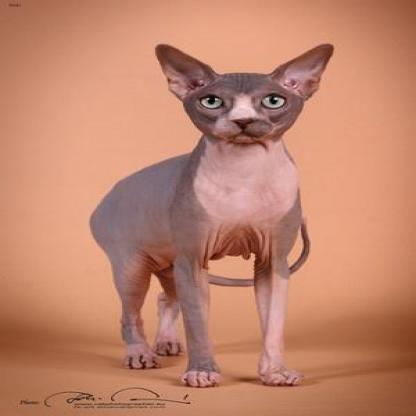cat: (88, 42, 336, 389)
